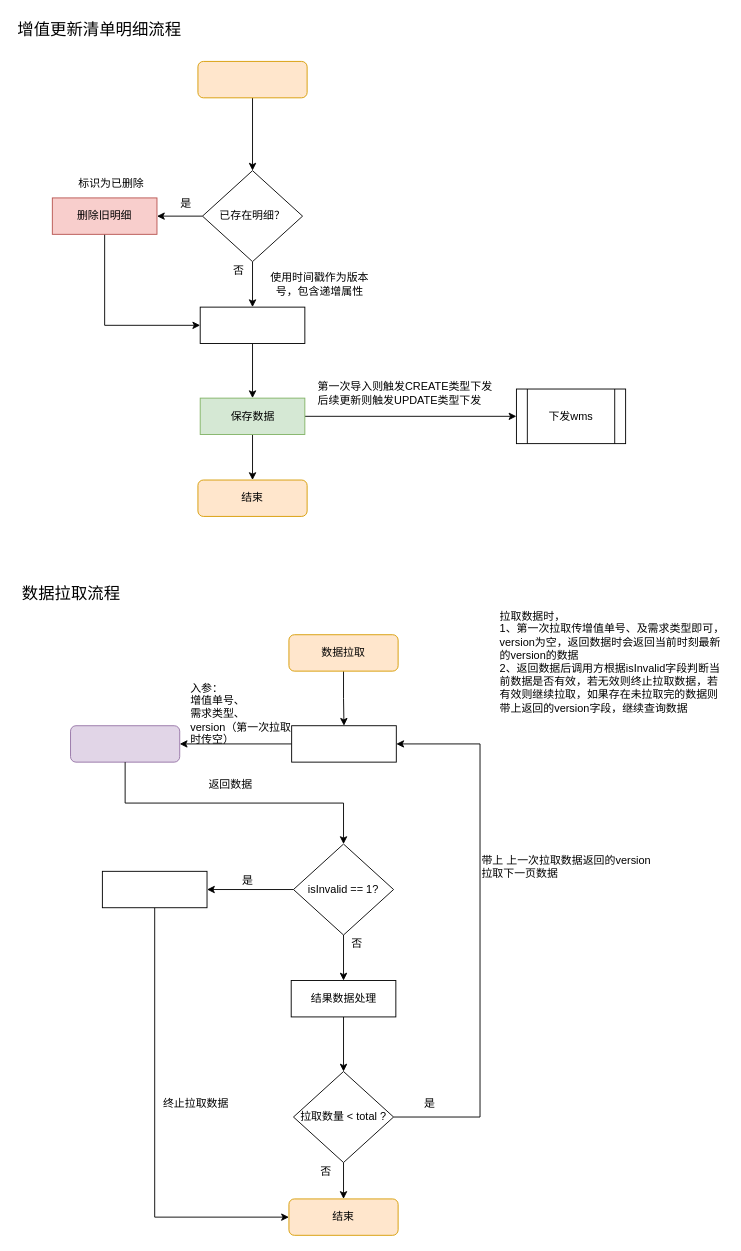
Some shapes in this 741 by 1251 pixel diagram are drawn without their labels. The shapes that lost their labels are listed below. From the top down, each one's box as (x1, y1, x2, y2) in pixels, then its label:
(197, 61, 307, 98): 导入拍照单
(199, 306, 305, 344): 新数据生成版本号
(70, 725, 180, 762): 增值服务
(291, 725, 396, 762): 获取数据
(101, 870, 207, 908): 删除旧数据（如果已有）
